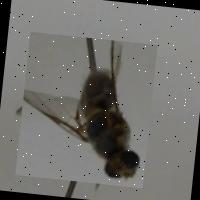Oriental-fruit-fly: (14, 31, 156, 188)
